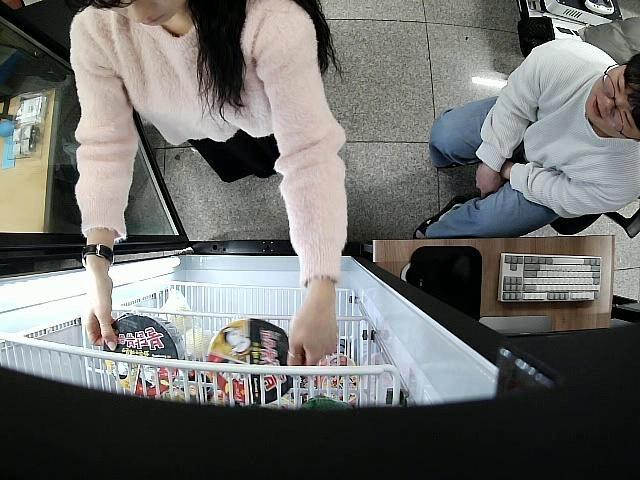07_buldak_L: (206, 318, 292, 404), (102, 314, 184, 396)
